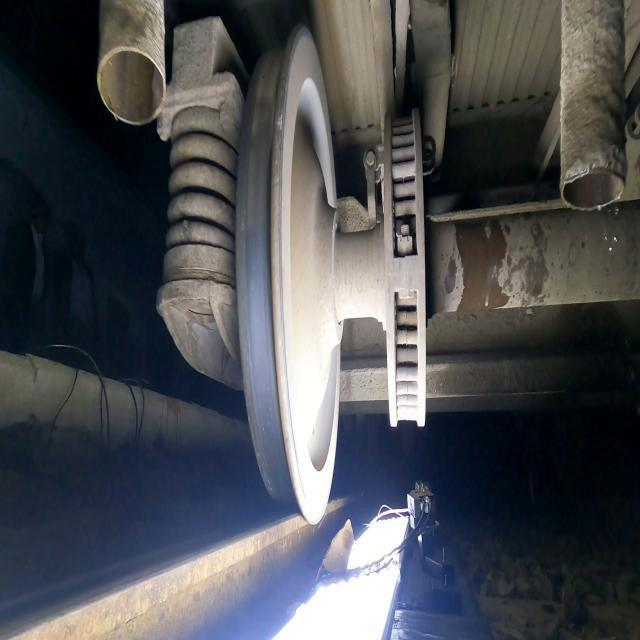Cracks-Scratches: (274, 109, 284, 132)
Shelling: (245, 54, 283, 224)
Wheel: (235, 27, 342, 523)
